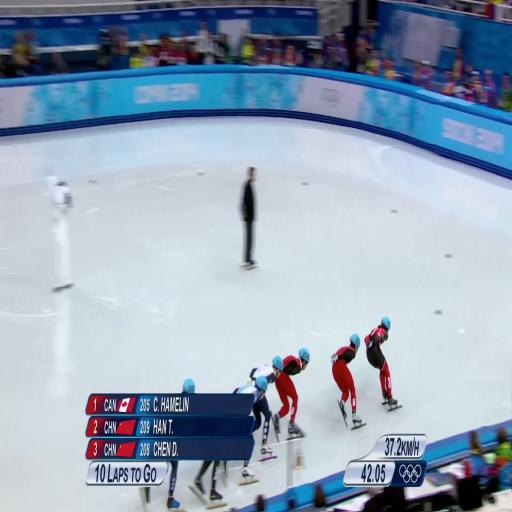Skater: (234, 357, 283, 461), (365, 317, 401, 411), (273, 348, 309, 440), (331, 334, 365, 429), (234, 375, 269, 438), (235, 375, 270, 436), (190, 461, 226, 509), (259, 397, 272, 460), (167, 461, 183, 511)
